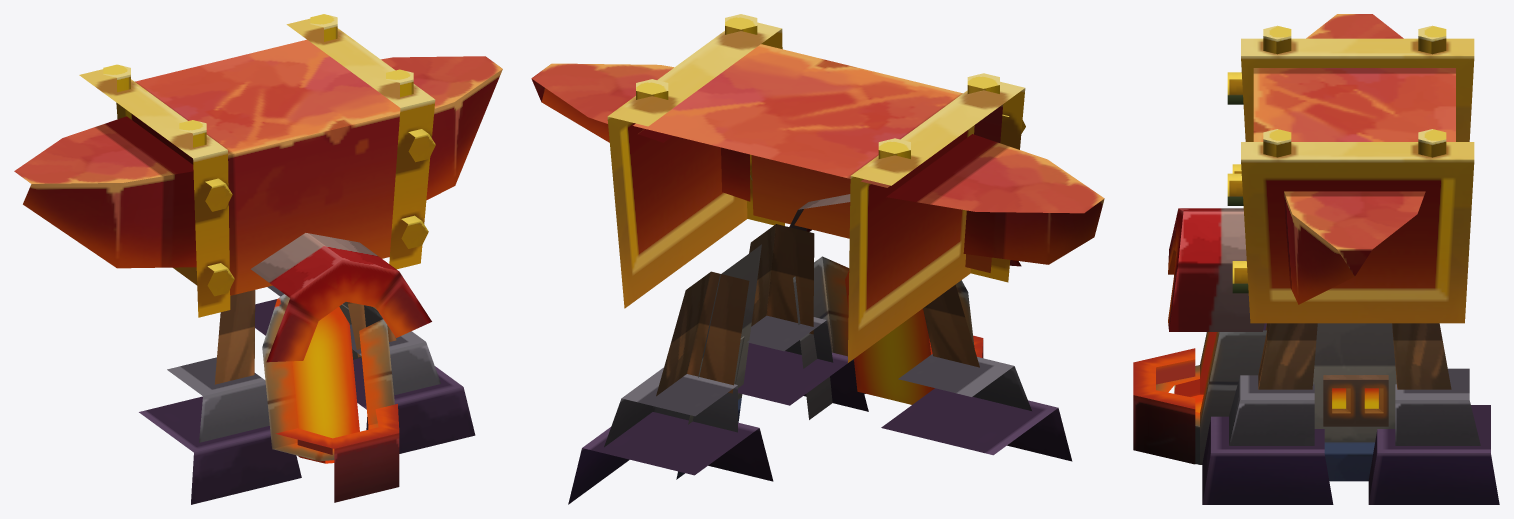
File: B_Blacksmith05.fbx
3 views of the same model, side by side, from view 1: azimuth 30°, elevation 25°; view 2: azimuth 150°, elevation 25°; view 3: azimuth 270°, elevation 25° (orthographic). The views are drawn at different scales.
Parts seen in each view (by area): view 1: B_Blacksmith05_01; view 2: B_Blacksmith05_01; view 3: B_Blacksmith05_01.
Boxes of the visible parts, x1,y1,x2,y2 form: B_Blacksmith05_01: [14, 14, 502, 504]; B_Blacksmith05_01: [531, 14, 1104, 504]; B_Blacksmith05_01: [1133, 14, 1499, 504].
Bounding box in the file's own units: 5 × 3.46 × 3.29.
Materials: 1 (1 with a texture image).
